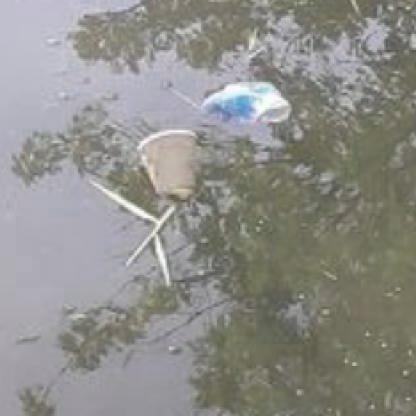Plastic: (138, 128, 201, 202)
Trash: (208, 78, 293, 128)
